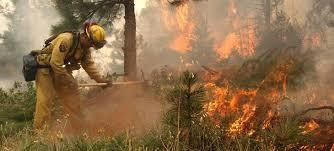fire: (202, 80, 275, 136), (212, 2, 260, 56), (161, 1, 195, 52)
